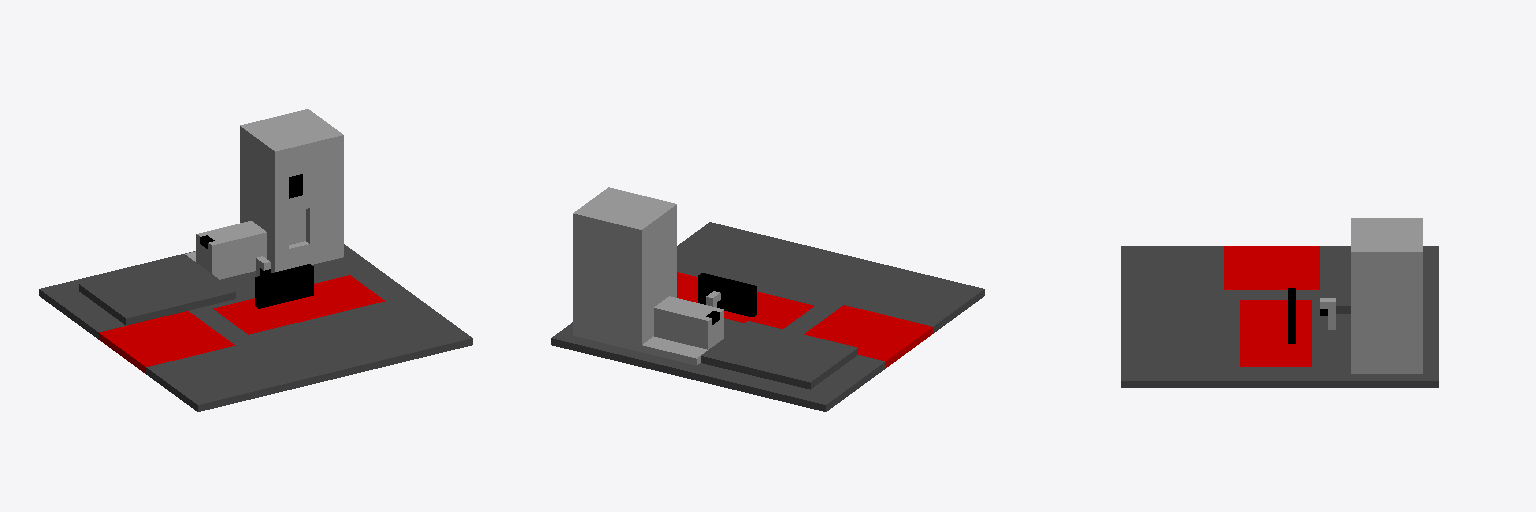
3 views of the same model, side by side, from view 1: azimuth 30°, elevation 25°; view 2: azimuth 150°, elevation 25°; view 3: azimuth 270°, elevation 25° (orthographic).
Visible parts, largest first — view 1: object 1; view 2: object 1; view 3: object 1.
Part boxes in pixels (left/top/right/bottom): object 1: left=39, top=109, right=472, bottom=411; object 1: left=551, top=187, right=984, bottom=411; object 1: left=1121, top=218, right=1438, bottom=387.
Size of the model in its own units: 4 by 1.8 by 4.
1 materials, 1 textured.